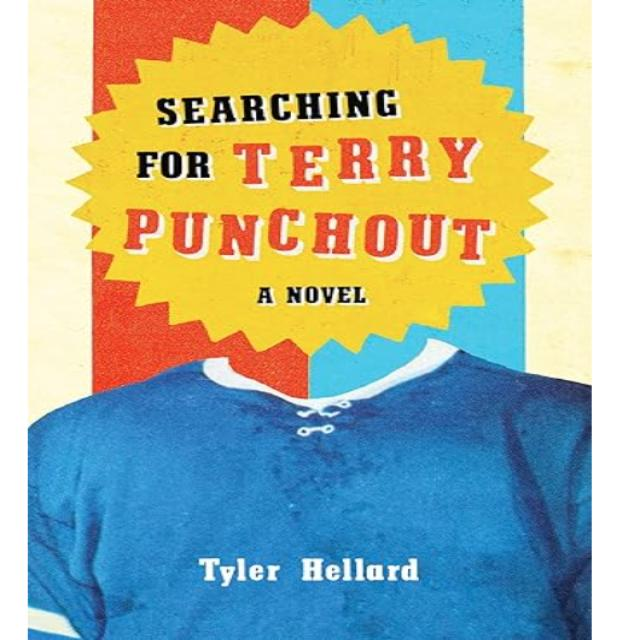titles-or-authors: (110, 87, 502, 273), (189, 552, 428, 589)
